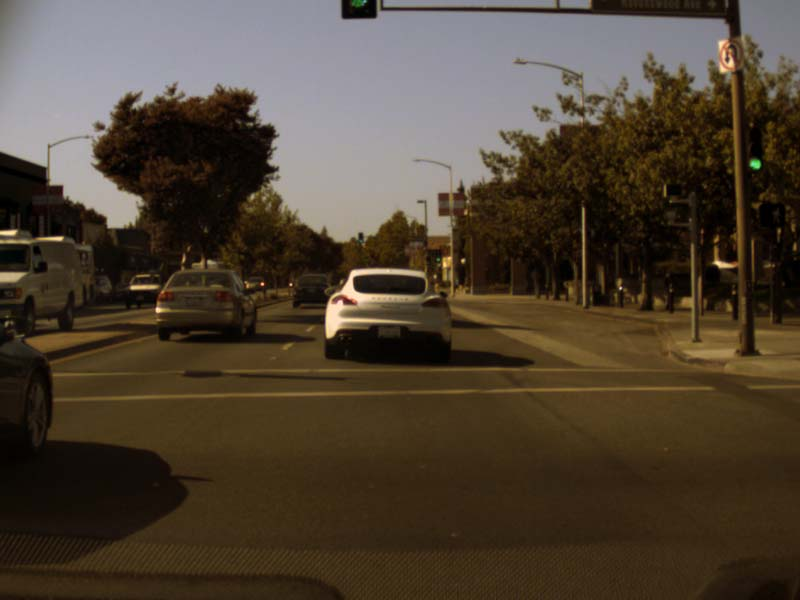Green: (746, 127, 764, 171), (433, 250, 441, 263), (357, 232, 363, 244), (425, 257, 430, 265)
